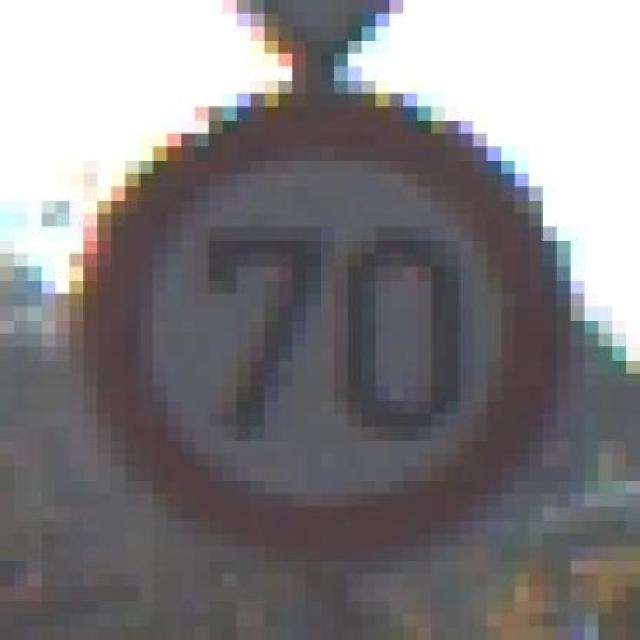forb_speed_over_70: (95, 105, 553, 534)
